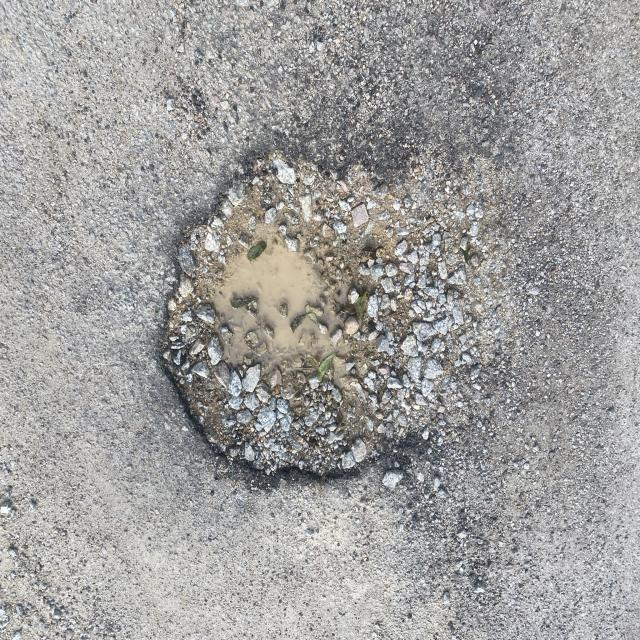pothole: (109, 98, 468, 504)
